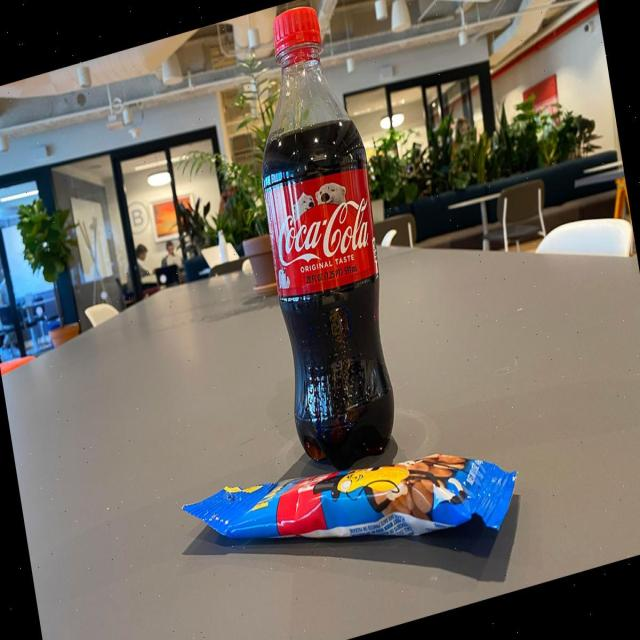coca-cola: (233, 0, 407, 481)
